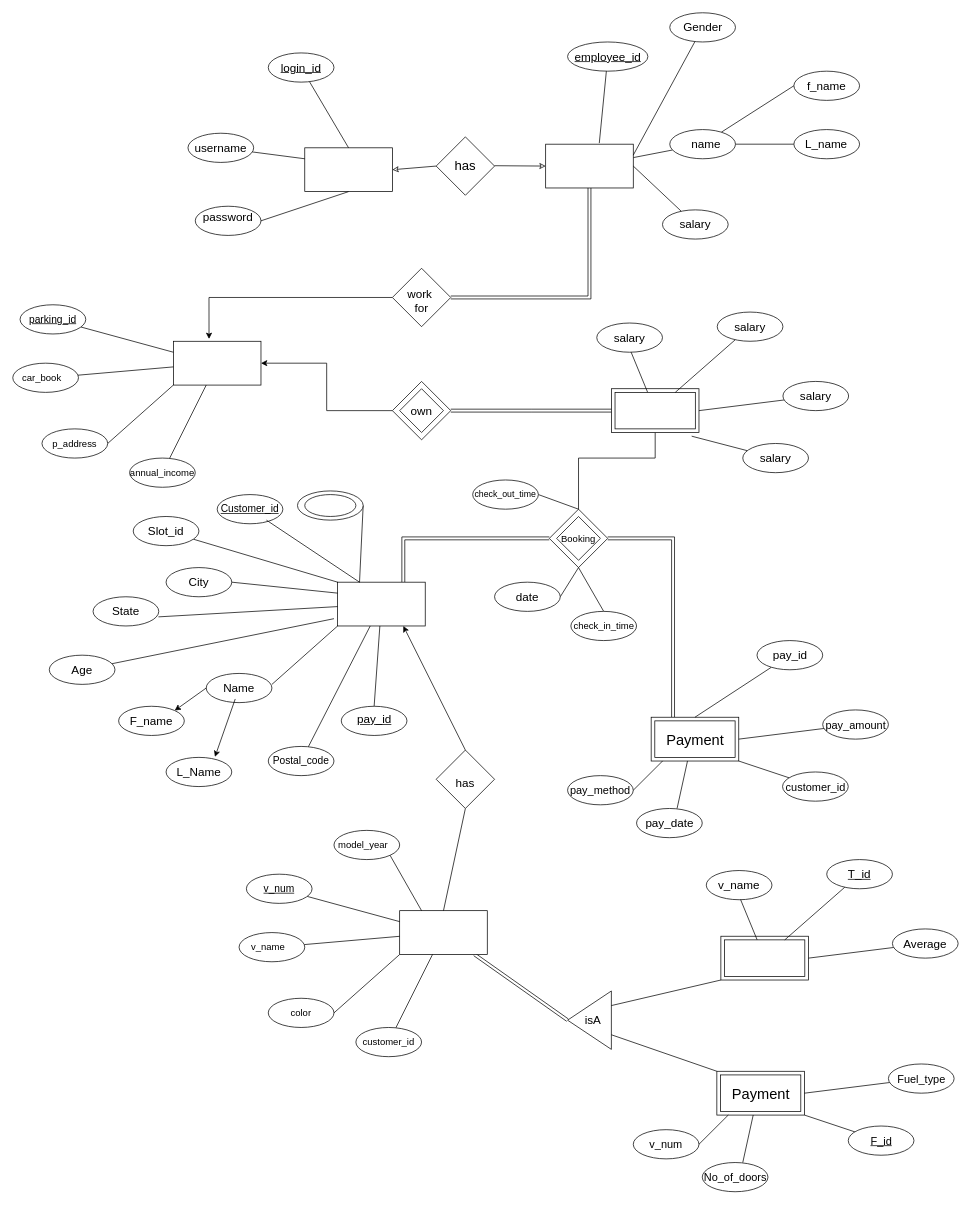
This 971x1205 diagram has some shape labels left out. The shapes that lost their labels are listed below. From the top down, each one's centre as x and y in pixels, then its label:
At point 348,169: "Login".
At point 589,165: "Employee".
At point 217,363: "Parking".
At point 654,410: "Parking_block".
At point 330,505: "Phone_no".
At point 381,603: "Customer".
At point 443,932: "Vehicle".
At point 764,957: "T_wheeler".
